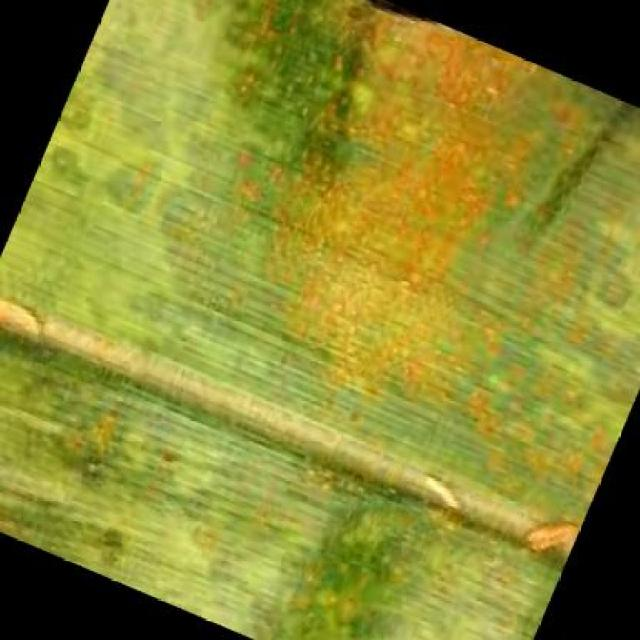Corn_Rust: (83, 69, 560, 562)
